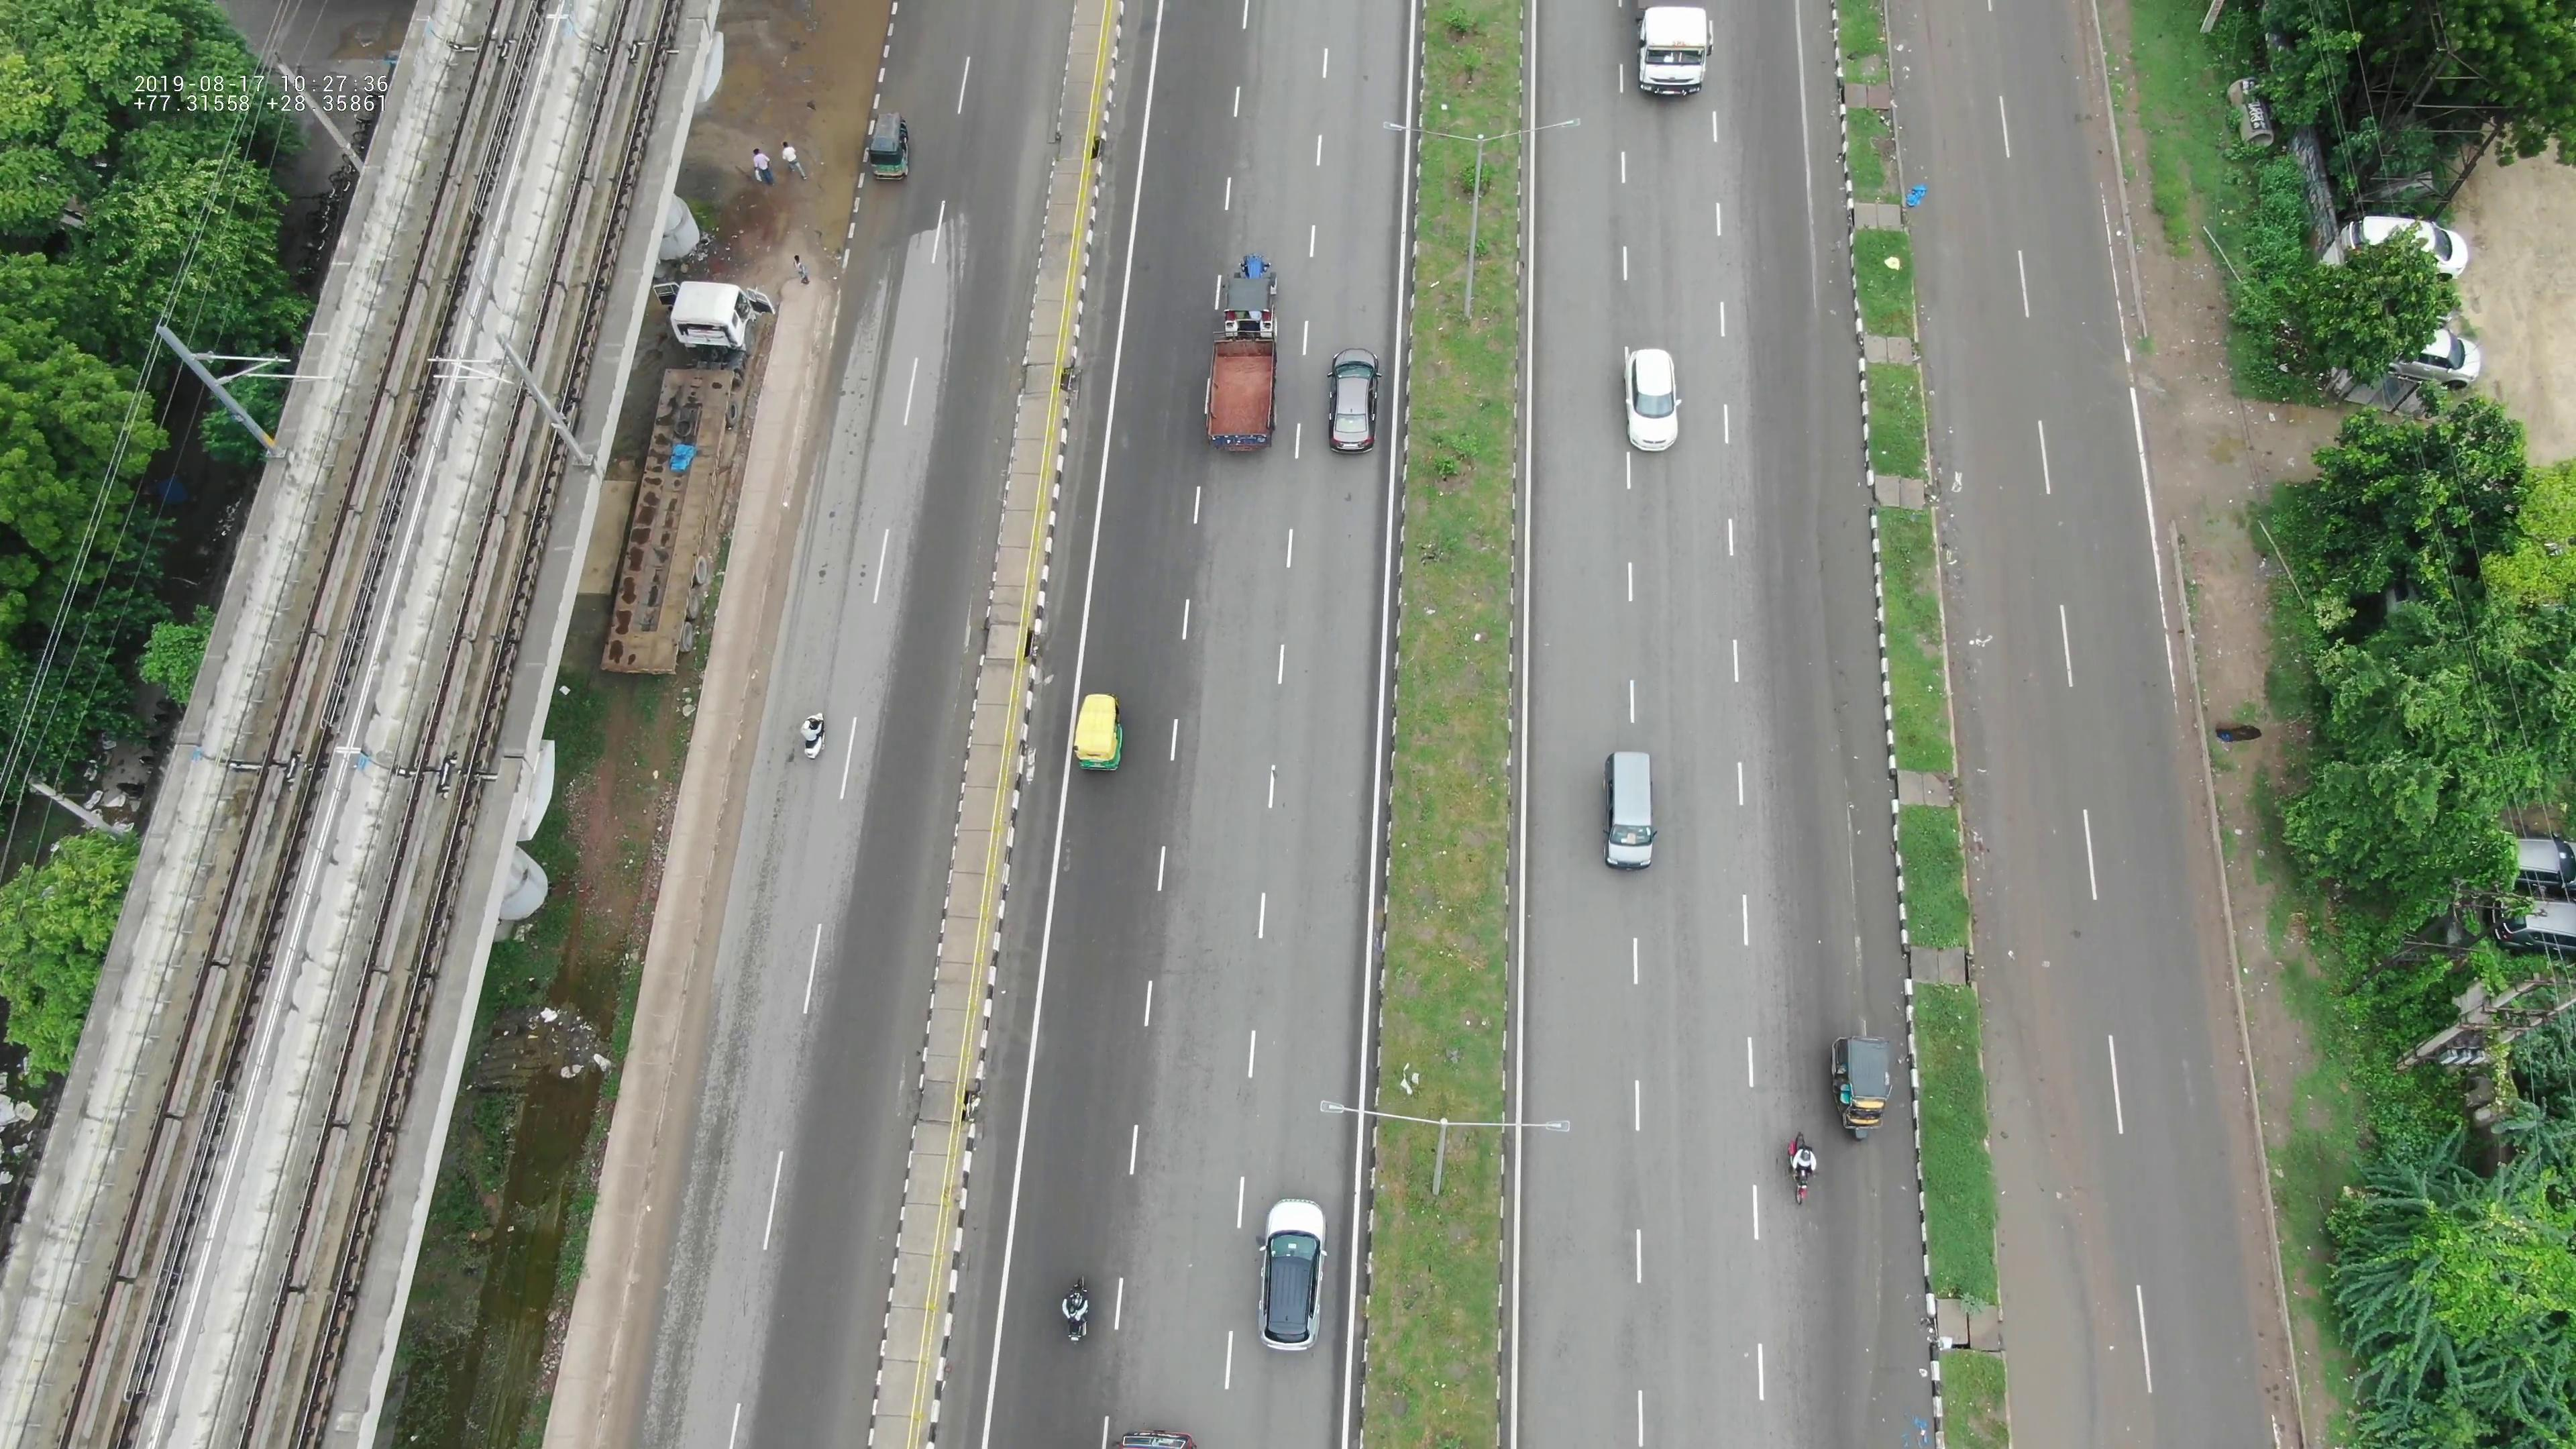Waterlogging: (1960, 989, 2120, 1445), (1799, 439, 1898, 980)
